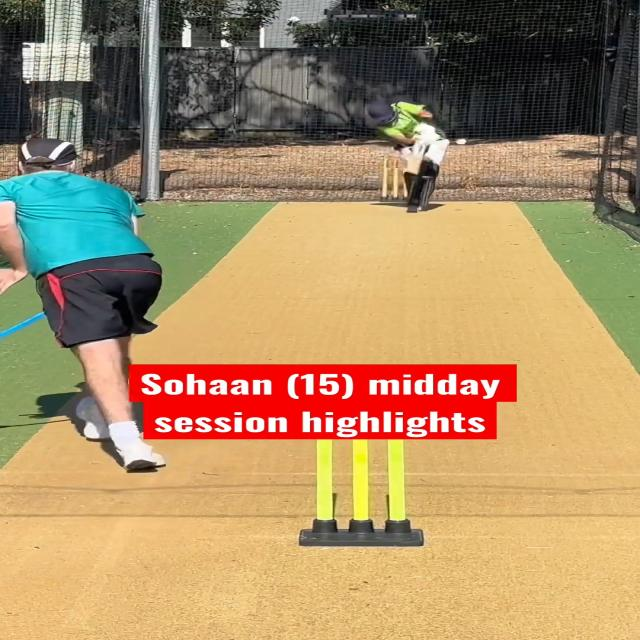ball: (453, 137, 469, 147)
stump: (302, 439, 424, 548), (382, 154, 409, 202)
